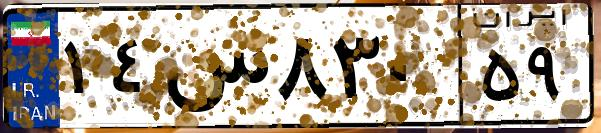0: (385, 28, 445, 110)
1: (57, 26, 110, 100)
3: (330, 28, 385, 110)
4: (110, 28, 158, 98)
5: (475, 38, 525, 113)
8: (270, 28, 330, 110)
9: (525, 38, 570, 115)
س: (158, 20, 270, 120)
